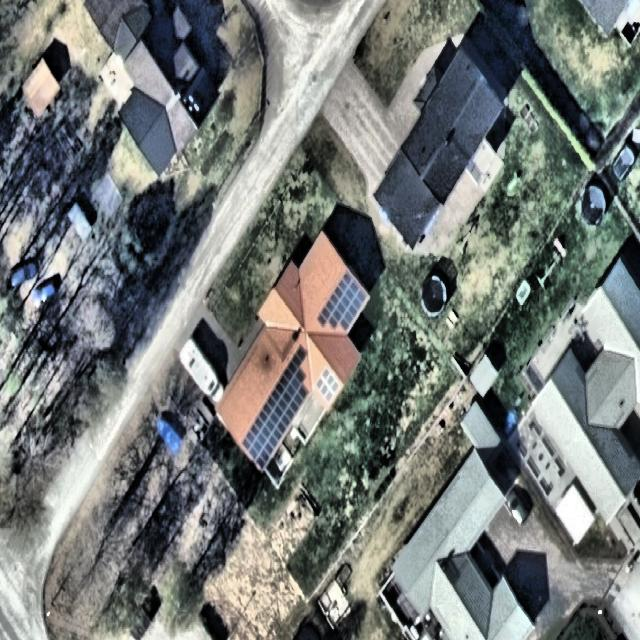roof_pv: (318, 271, 369, 338), (243, 389, 274, 471), (287, 344, 308, 424), (312, 368, 343, 404), (275, 379, 289, 446)
